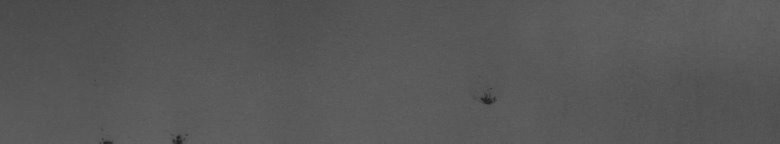fi: (474, 88, 497, 112)
